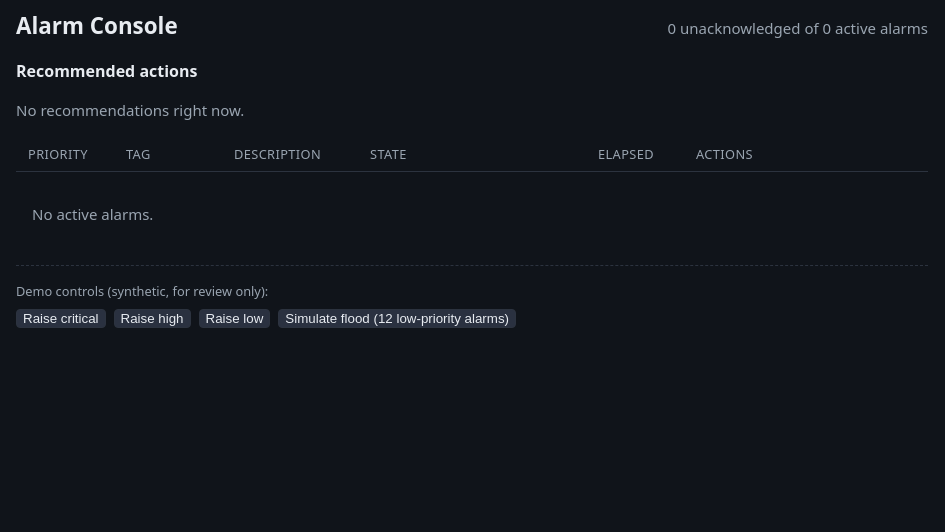
Test: AlarmConsole › cancelling the pre-filled ShelveForm records no decision, so the recommendation is still there to act on
The image size is (945, 532).
Click the button "Raise low": {"x": 234, "y": 319} [198,309,270,328]
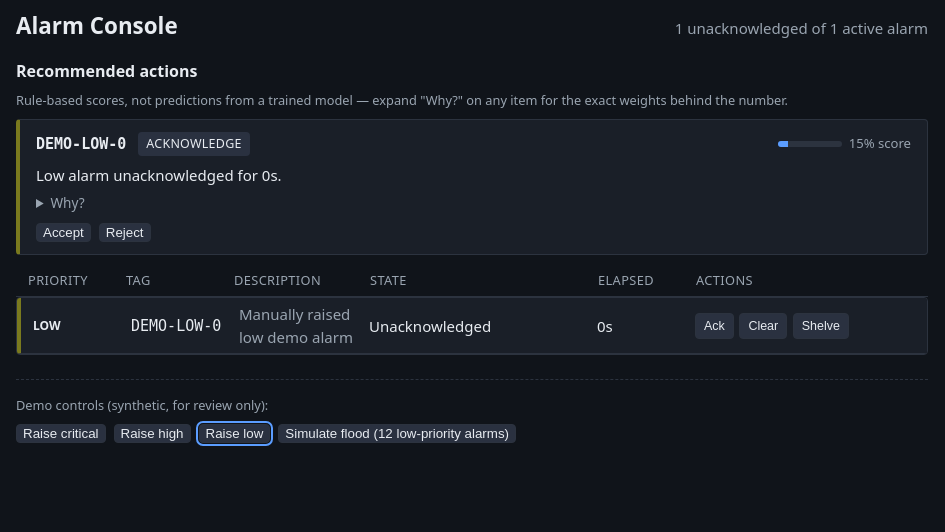
Click the button with aria-label "Acknowledge": {"x": 714, "y": 326} [695,313,734,339]
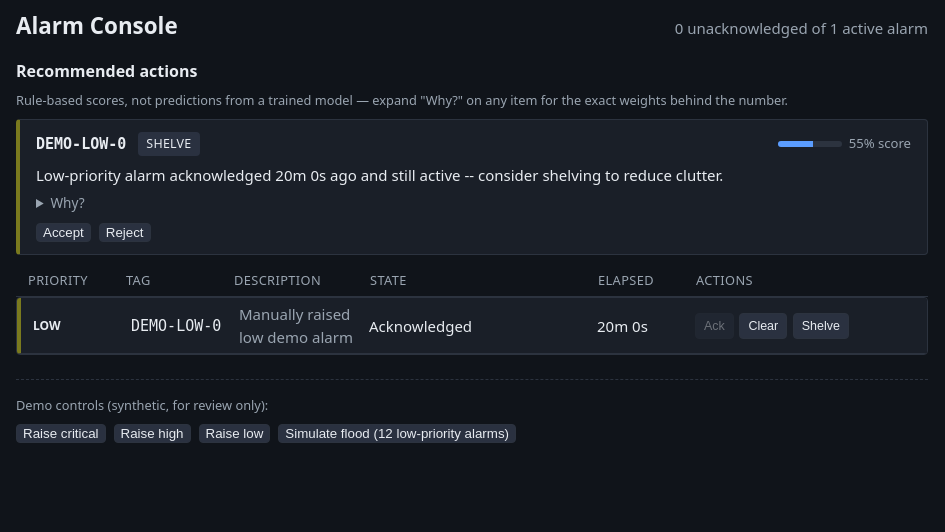
Now the text "Shelve" is shown, box [138,132,200,156]
Click the button with aria-label "Accept recommendation for": {"x": 63, "y": 232} [36,223,91,242]
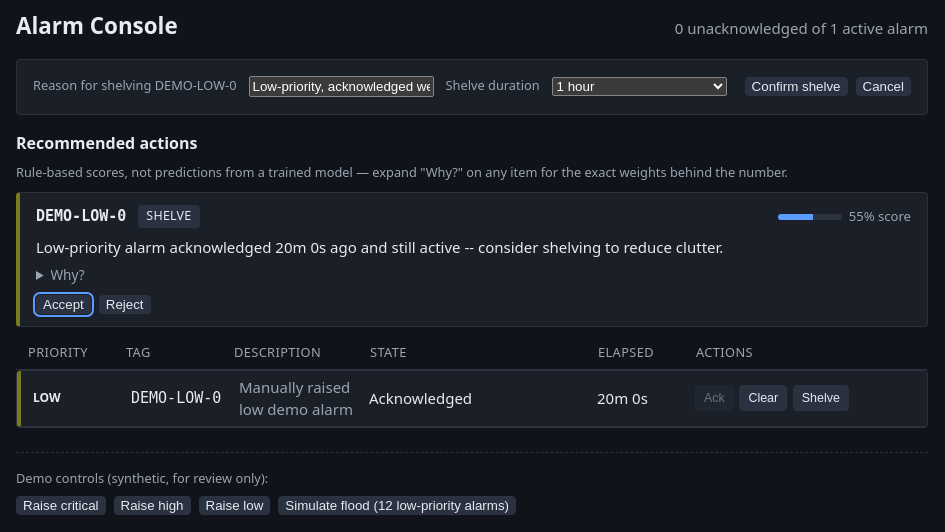
Click the button "Cancel": {"x": 883, "y": 87} [856,77,911,96]
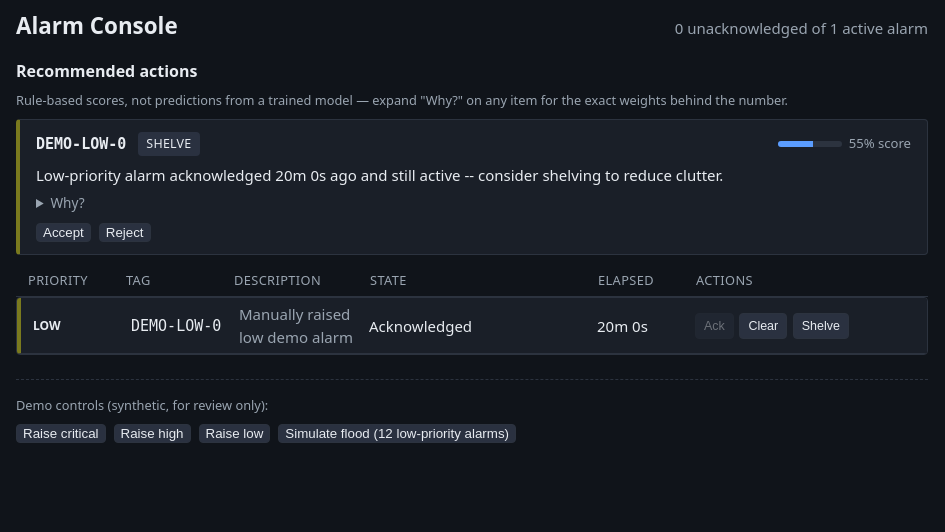
Now the text "Acknowledged" is shown, box [369,316,472,336]
Now the text "Shelve" is shown, box [138,132,200,156]
Now the form is gone
